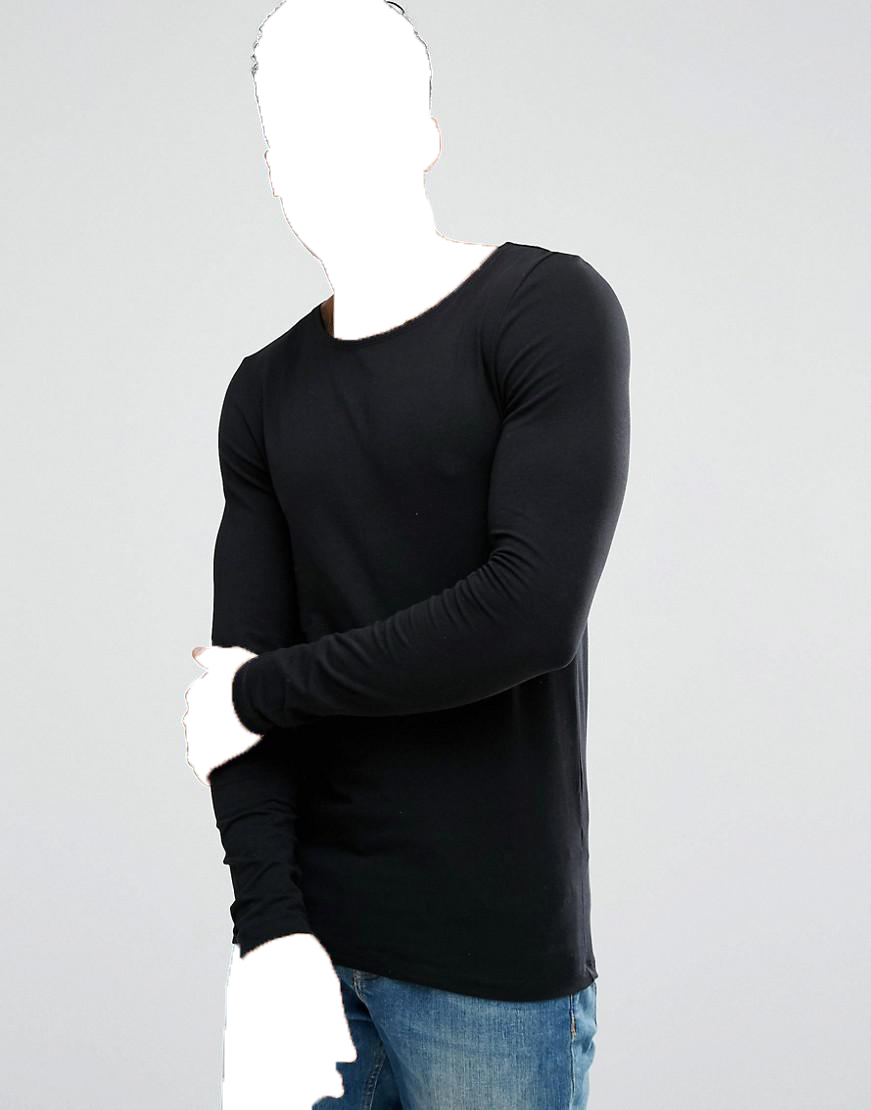teeshirt: (171, 242, 652, 1003)
